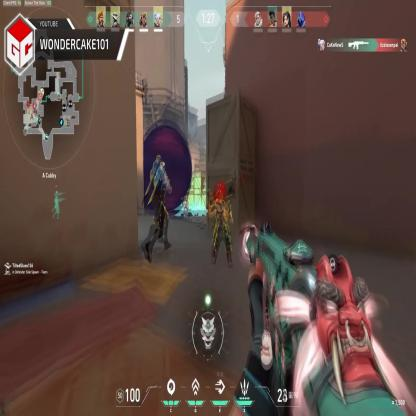enemy: (150, 160, 172, 250), (182, 194, 191, 218)
enemy_head: (160, 162, 166, 172), (185, 194, 188, 202)
